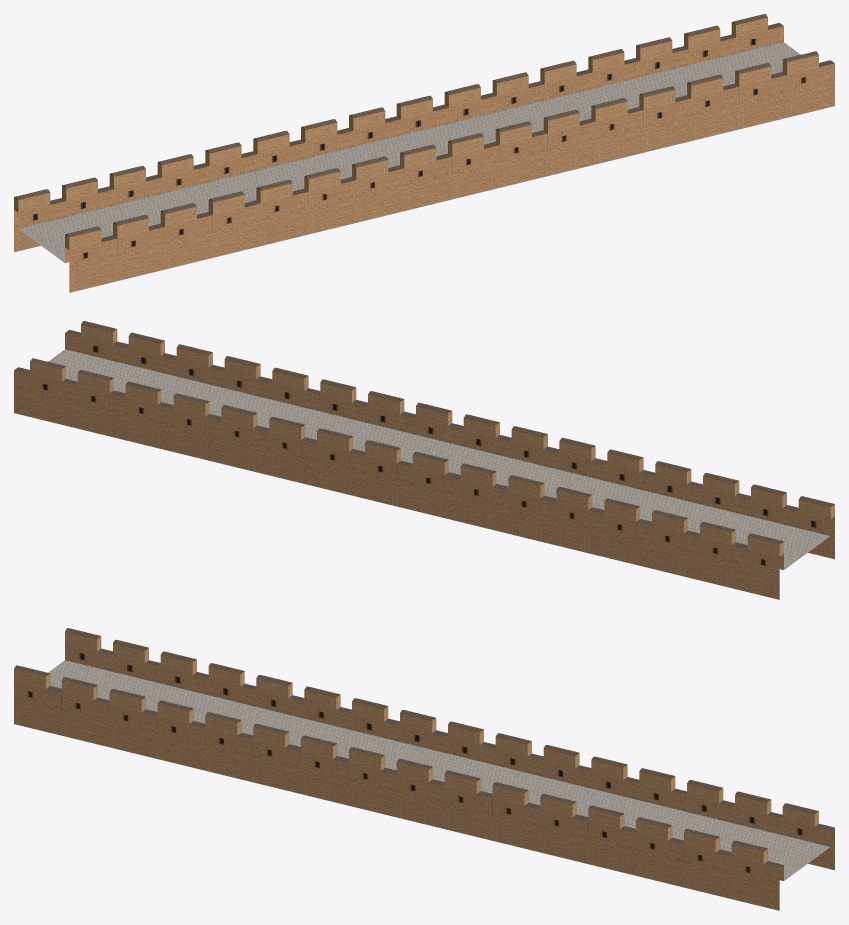
File: Muro.obj
3 views of the same model, one above another, from view 1: azimuth 30°, elevation 25°; view 2: azimuth 150°, elevation 25°; view 3: azimuth 330°, elevation 25° (orthographic).
Visible parts, largest first — view 1: muro_Plane; view 2: muro_Plane; view 3: muro_Plane.
Boxes of the visible parts, left/top/right/bottom form: muro_Plane: left=14, top=14, right=834, bottom=292; muro_Plane: left=14, top=321, right=834, bottom=599; muro_Plane: left=14, top=628, right=834, bottom=910.
Size of the model in its own units: 64 by 4.56 by 8.02.
